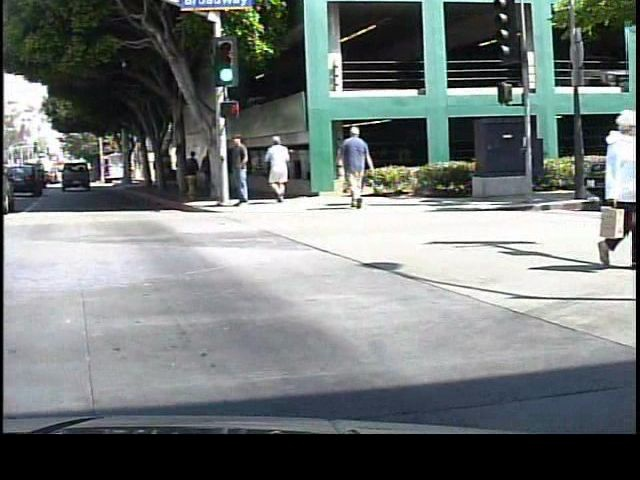person: (581, 105, 637, 272), (336, 122, 378, 209), (226, 130, 256, 213), (262, 132, 291, 205), (184, 148, 200, 195)
